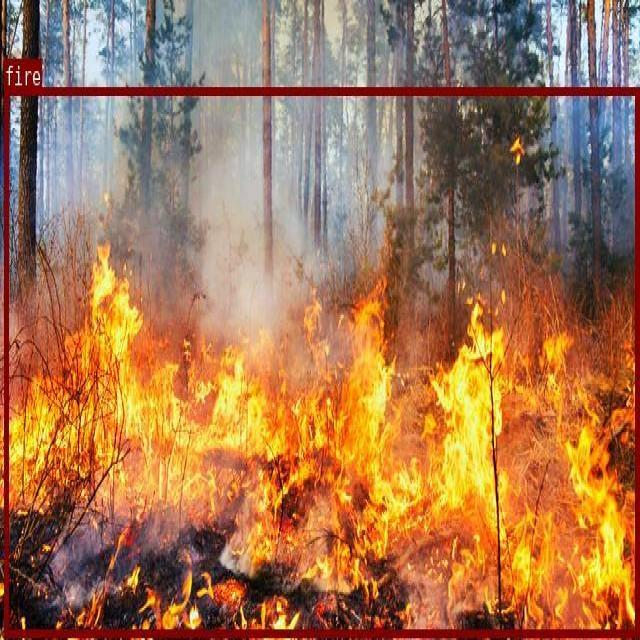fire: (3, 87, 638, 635)
